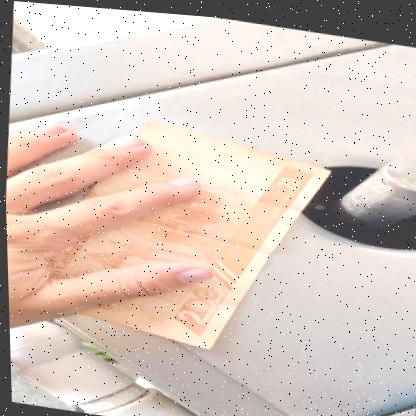twenty-back-vef: (35, 103, 337, 363)
